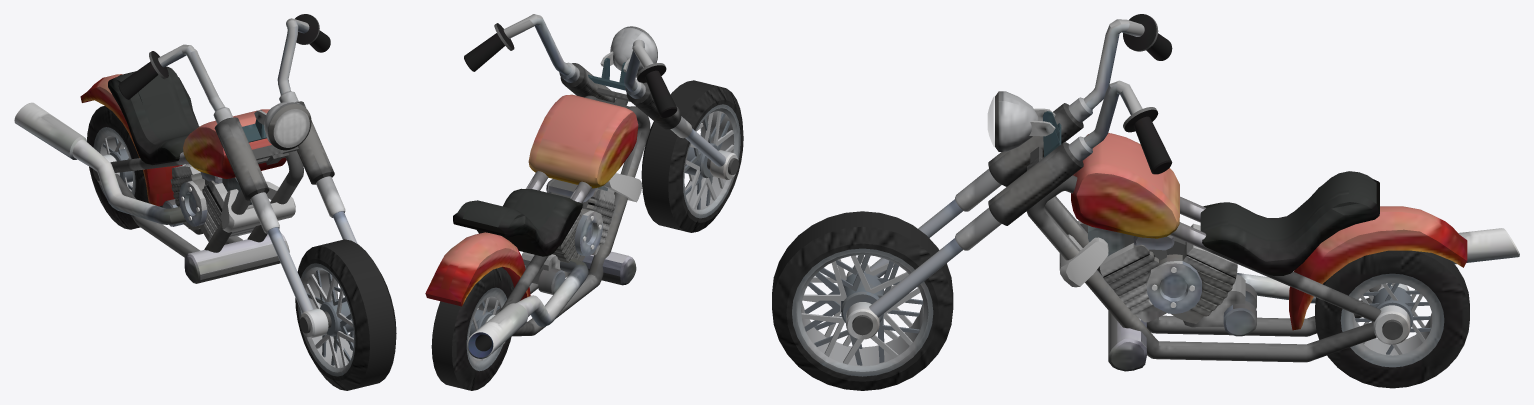
Rendered from motorcycle.glb.
The picture shows the model from 3 angles, left to right: view 1: azimuth 30°, elevation 25°; view 2: azimuth 150°, elevation 25°; view 3: azimuth 270°, elevation 25°; orthographic projection. The views are drawn at different scales.
Parts seen in each view (by area): view 1: HCR2_Ch_Steer_Upper_0, HCR2_Ch_Wheel_Front_2, HCR2_Ch_Seat_4, HCR2_Ch_Details_8, HCR2_Ch_Body_9, HCR2_Ch_Exhaust_6, HCR2_Ch_Frame_5, HCR2_Ch_Engine_7, HCR2_Ch_Wheel_Rear_3, HCR2_Ch_Steer_Lower_1; view 2: HCR2_Ch_Body_9, HCR2_Ch_Wheel_Front_2, HCR2_Ch_Steer_Upper_0, HCR2_Ch_Wheel_Rear_3, HCR2_Ch_Seat_4, HCR2_Ch_Frame_5, HCR2_Ch_Engine_7, HCR2_Ch_Exhaust_6, HCR2_Ch_Details_8, HCR2_Ch_Steer_Lower_1; view 3: HCR2_Ch_Wheel_Front_2, HCR2_Ch_Steer_Upper_0, HCR2_Ch_Body_9, HCR2_Ch_Wheel_Rear_3, HCR2_Ch_Frame_5, HCR2_Ch_Engine_7, HCR2_Ch_Seat_4, HCR2_Ch_Details_8, HCR2_Ch_Steer_Lower_1, HCR2_Ch_Exhaust_6.
Boxes of the visible parts, <box> form: HCR2_Ch_Steer_Upper_0: <box>118,14,345,233</box>; HCR2_Ch_Wheel_Front_2: <box>295,239,396,390</box>; HCR2_Ch_Seat_4: <box>108,66,199,165</box>; HCR2_Ch_Details_8: <box>93,154,295,283</box>; HCR2_Ch_Body_9: <box>80,74,286,206</box>; HCR2_Ch_Exhaust_6: <box>14,102,186,224</box>; HCR2_Ch_Frame_5: <box>110,145,303,257</box>; HCR2_Ch_Engine_7: <box>162,164,255,241</box>; HCR2_Ch_Wheel_Rear_3: <box>87,106,162,229</box>; HCR2_Ch_Steer_Lower_1: <box>267,211,357,338</box>; HCR2_Ch_Body_9: <box>425,94,638,306</box>; HCR2_Ch_Wheel_Front_2: <box>641,80,743,232</box>; HCR2_Ch_Steer_Upper_0: <box>464,14,692,138</box>; HCR2_Ch_Wheel_Rear_3: <box>431,267,513,390</box>; HCR2_Ch_Seat_4: <box>453,188,582,256</box>; HCR2_Ch_Frame_5: <box>500,95,650,336</box>; HCR2_Ch_Engine_7: <box>521,179,615,294</box>; HCR2_Ch_Exhaust_6: <box>467,258,588,358</box>; HCR2_Ch_Details_8: <box>485,173,642,346</box>; HCR2_Ch_Steer_Lower_1: <box>685,128,738,179</box>; HCR2_Ch_Wheel_Front_2: <box>772,211,953,390</box>; HCR2_Ch_Steer_Upper_0: <box>955,14,1172,250</box>; HCR2_Ch_Body_9: <box>1071,133,1467,330</box>; HCR2_Ch_Wheel_Rear_3: <box>1315,250,1469,388</box>; HCR2_Ch_Frame_5: <box>1026,156,1381,362</box>; HCR2_Ch_Engine_7: <box>1088,223,1256,336</box>; HCR2_Ch_Seat_4: <box>1200,171,1379,275</box>; HCR2_Ch_Details_8: <box>1059,220,1410,371</box>; HCR2_Ch_Steer_Lower_1: <box>846,199,963,339</box>; HCR2_Ch_Exhaust_6: <box>1237,228,1519,303</box>.
Size of the model in its own units: 0.7586 by 0.9437 by 1.92.
2 materials, 1 textured.
